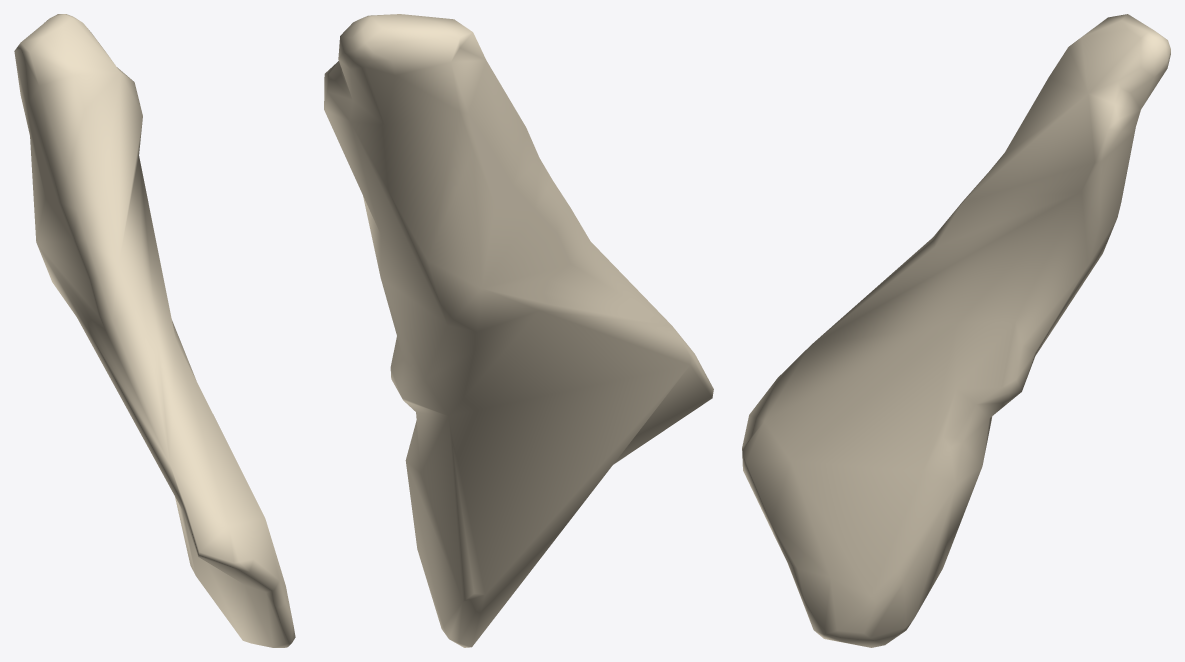
Rendered from nasal-bone-l.glb.
3 renders of one model, left to right at view 1: azimuth 30°, elevation 25°; view 2: azimuth 150°, elevation 25°; view 3: azimuth 270°, elevation 25°, orthographic. The views are drawn at different scales.
Parts seen in each view (by area): view 1: Nasal bone.l; view 2: Nasal bone.l; view 3: Nasal bone.l.
Part boxes in pixels (x1,y1,x2,y2): Nasal bone.l: [14, 14, 295, 647]; Nasal bone.l: [324, 14, 713, 647]; Nasal bone.l: [742, 14, 1170, 647].
Bounding box in the file's own units: 0.0084 × 0.0314 × 0.0209.
